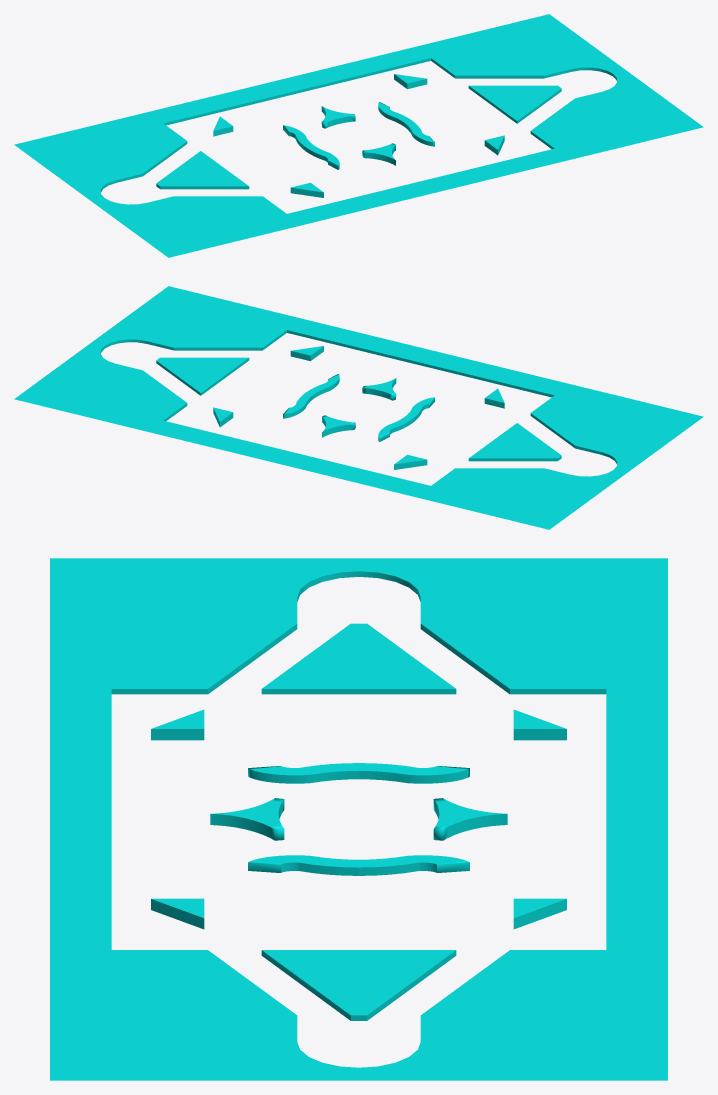
Rendered from Final Map No Bottom.fbx.
3 views of the same model, one above another, from view 1: azimuth 30°, elevation 25°; view 2: azimuth 150°, elevation 25°; view 3: azimuth 270°, elevation 25° (orthographic). The views are drawn at different scales.
Visible parts, largest first — view 1: polySurface11, polySurface12, polySurface17; view 2: polySurface11, polySurface12, polySurface17; view 3: polySurface11, polySurface12, polySurface17, pCylinder8, pCylinder9, pCylinder10, pCylinder11.
Part boxes in pixels (x1,y1,x2,y2): polySurface11: (14, 14, 703, 257); polySurface12: (283, 102, 434, 169); polySurface17: (321, 106, 395, 165); polySurface11: (14, 286, 703, 529); polySurface12: (283, 374, 434, 441); polySurface17: (322, 378, 396, 437); polySurface11: (50, 558, 667, 1080); polySurface12: (248, 763, 469, 875); polySurface17: (210, 798, 507, 840); pCylinder8: (513, 898, 566, 929); pCylinder9: (151, 898, 204, 929); pCylinder10: (151, 709, 204, 740); pCylinder11: (513, 709, 566, 740).
Bounding box in the file's own units: 200 × 2 × 100.
